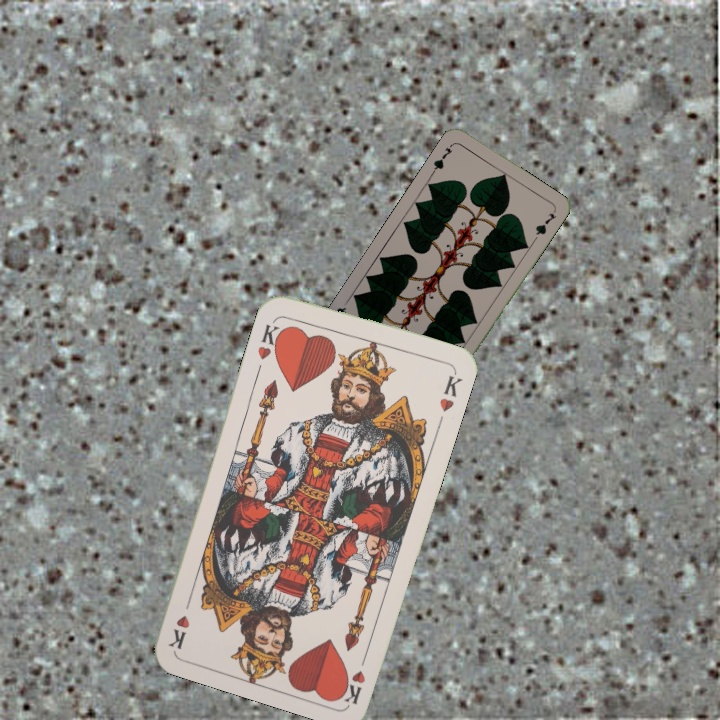G7: (428, 139, 456, 176)
HK: (337, 647, 371, 706), (253, 314, 287, 362)
